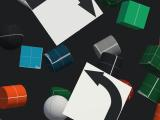Left: (62, 62, 132, 120)
Right: (25, 0, 103, 46)
